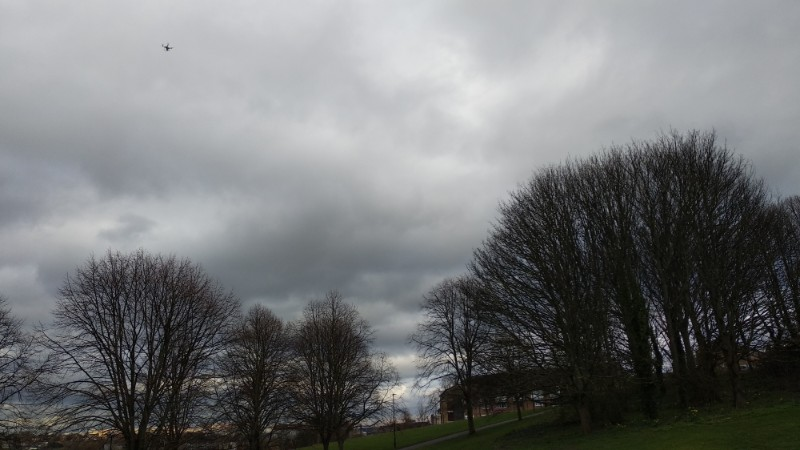drone: (161, 42, 175, 51)
